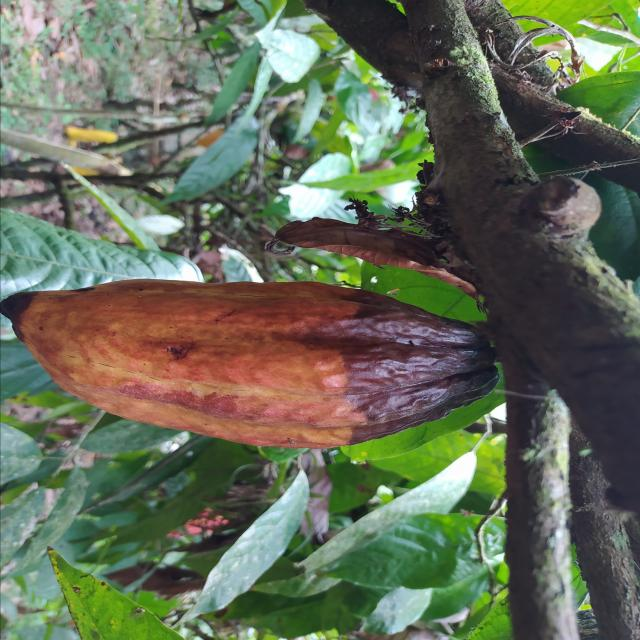Fitoftora: (0, 280, 497, 452)
